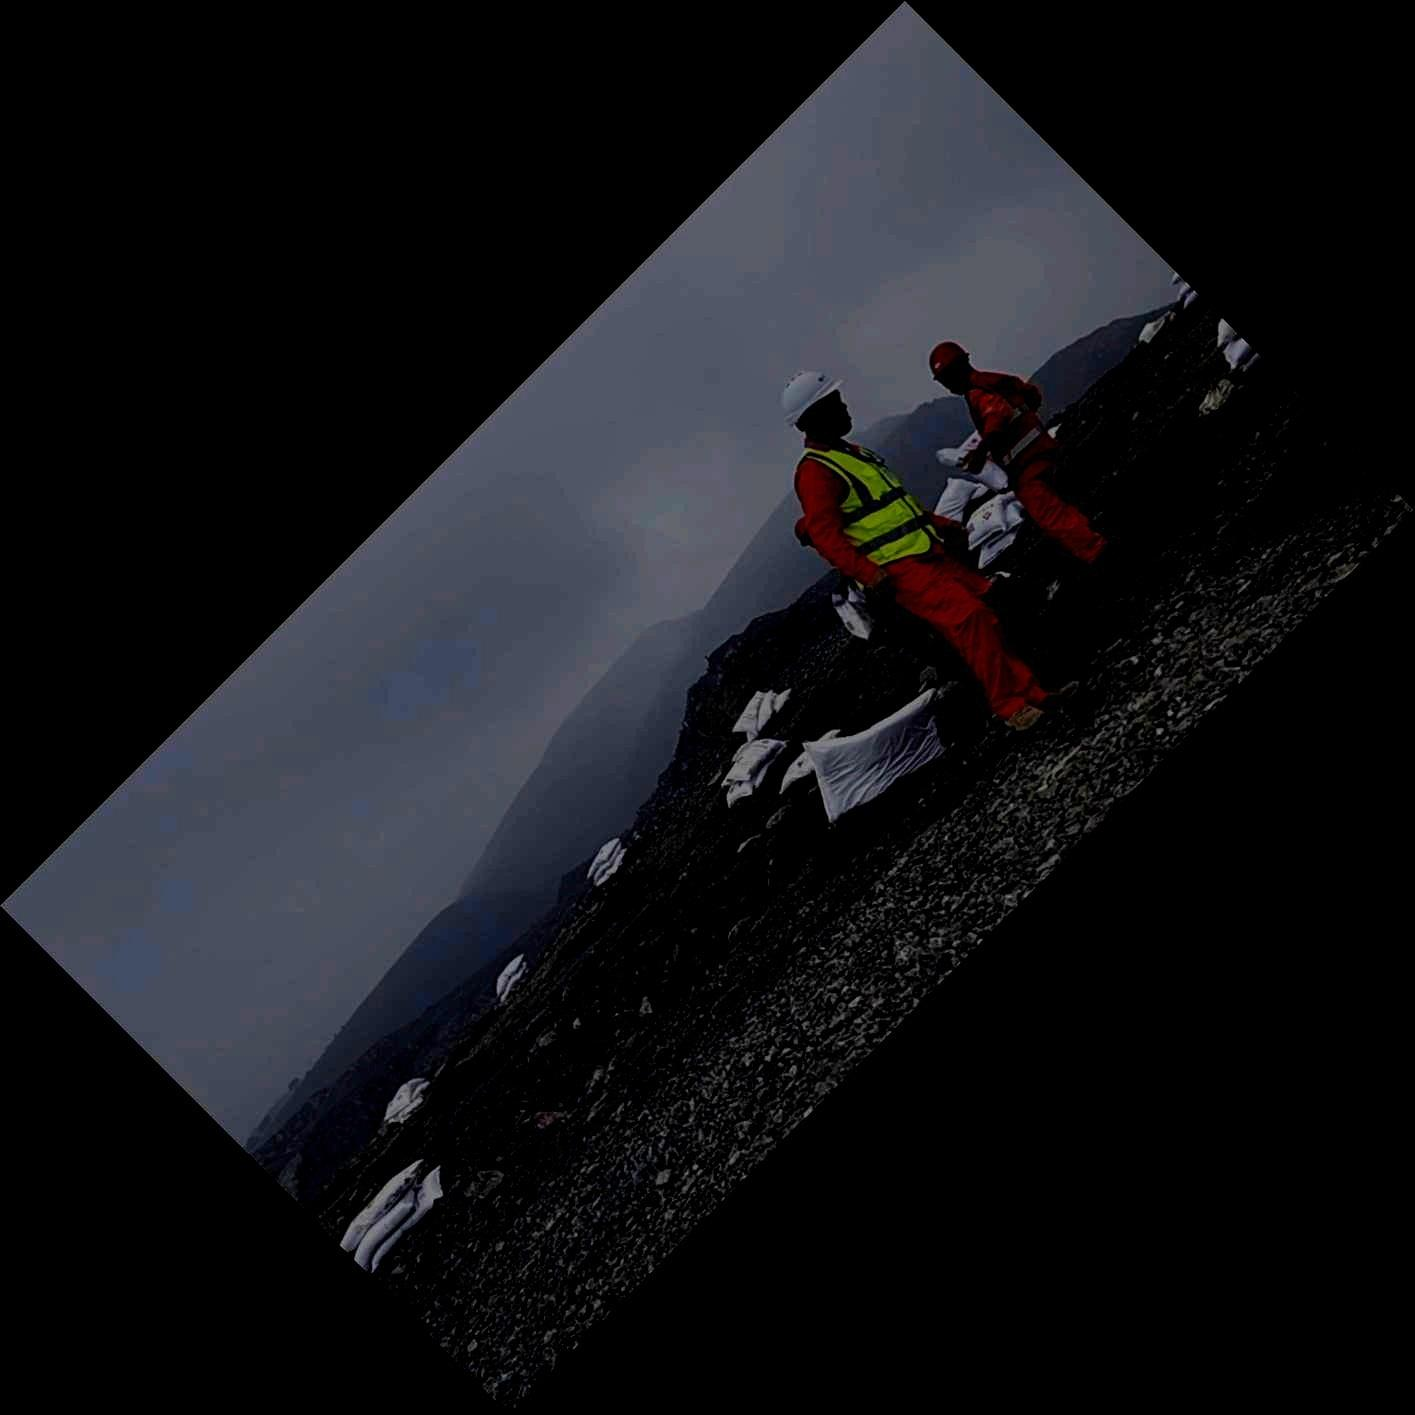helmet: (777, 368, 853, 437), (928, 339, 974, 397), (793, 514, 818, 548)
